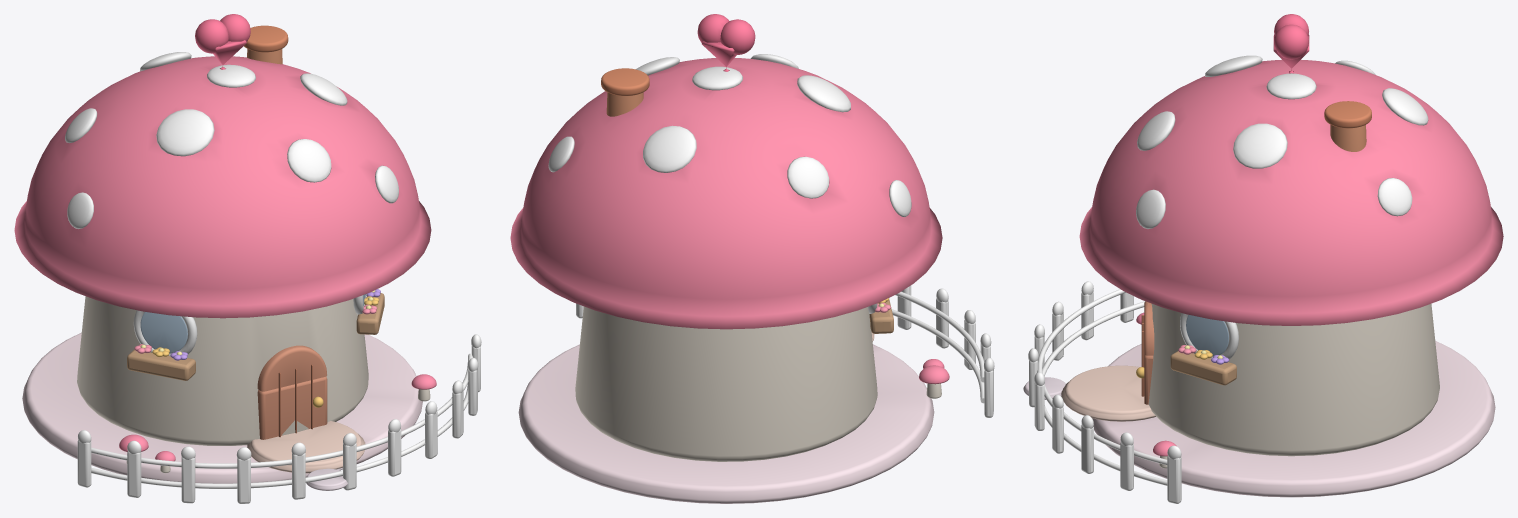
Rendered from cottage.glb.
3 renders of one model, left to right at view 1: azimuth 30°, elevation 25°; view 2: azimuth 150°, elevation 25°; view 3: azimuth 270°, elevation 25°, orthographic. The views are drawn at different scales.
Parts seen in each view (by area): view 1: cap, walls, base, step, door, spot_2, door_top, rail_1, rail_0, spot_1, window_-1, box_-1 (+20 smaller); view 2: cap, walls, base, spot_4, spot_3, spot_2, chimney_cap, spot_8, heart_lobe_-1, rail_0, rail_1, heart (+4 smaller); view 3: cap, walls, base, step, spot_0, rail_0, box_1, rail_1, window_1, chimney_cap, spot_5, spot_8 (+12 smaller).
Part boxes in pixels (bbox=[...]): cap: bbox=[14, 56, 431, 318]; walls: bbox=[77, 296, 368, 445]; base: bbox=[22, 332, 422, 483]; step: bbox=[247, 421, 365, 473]; door: bbox=[257, 376, 327, 439]; spot_2: bbox=[156, 109, 214, 156]; door_top: bbox=[257, 345, 326, 391]; rail_1: bbox=[91, 353, 472, 468]; rail_0: bbox=[91, 383, 468, 488]; spot_1: bbox=[287, 139, 331, 182]; window_-1: bbox=[140, 312, 187, 353]; box_-1: bbox=[127, 349, 195, 380]; cap: bbox=[510, 58, 942, 329]; walls: bbox=[575, 306, 877, 461]; base: bbox=[518, 344, 934, 503]; spot_4: bbox=[643, 125, 696, 172]; spot_3: bbox=[787, 156, 829, 198]; spot_2: bbox=[797, 75, 850, 112]; chimney_cap: bbox=[601, 68, 649, 95]; spot_8: bbox=[692, 66, 742, 90]; heart_lobe_-1: bbox=[720, 19, 755, 54]; rail_0: bbox=[891, 309, 984, 403]; rail_1: bbox=[895, 291, 984, 382]; heart: bbox=[697, 14, 729, 42]; cap: bbox=[1079, 59, 1503, 325]; walls: bbox=[1148, 304, 1439, 456]; base: bbox=[1092, 341, 1495, 497]; step: bbox=[1061, 365, 1155, 421]; spot_0: bbox=[1233, 123, 1287, 168]; rail_0: bbox=[1042, 301, 1167, 485]; box_1: bbox=[1170, 351, 1236, 385]; rail_1: bbox=[1037, 289, 1167, 465]; window_1: bbox=[1186, 315, 1228, 356]; chimney_cap: bbox=[1324, 101, 1371, 128]; spot_5: bbox=[1377, 178, 1412, 216]; spot_8: bbox=[1266, 73, 1316, 99].
Size of the model in its own units: 3.75 by 3.44 by 3.81.
